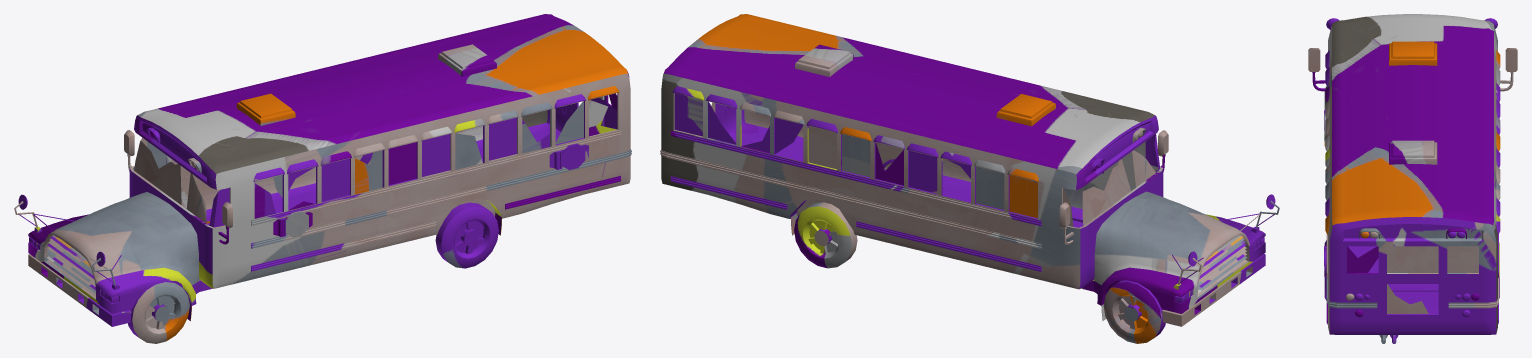
File: School Bus.fbx
3 renders of one model, left to right at view 1: azimuth 30°, elevation 25°; view 2: azimuth 150°, elevation 25°; view 3: azimuth 270°, elevation 25°, orthographic.
Parts seen in each view (by area): view 1: School bus body002; view 2: School bus body002; view 3: School bus body002.
Part boxes in pixels (x1=…): School bus body002: x1=14, y1=14, x2=631, y2=343; School bus body002: x1=660, y1=14, x2=1279, y2=343; School bus body002: x1=1308, y1=14, x2=1517, y2=343.
Bounding box in the file's own units: 128 × 38.72 × 42.65.
